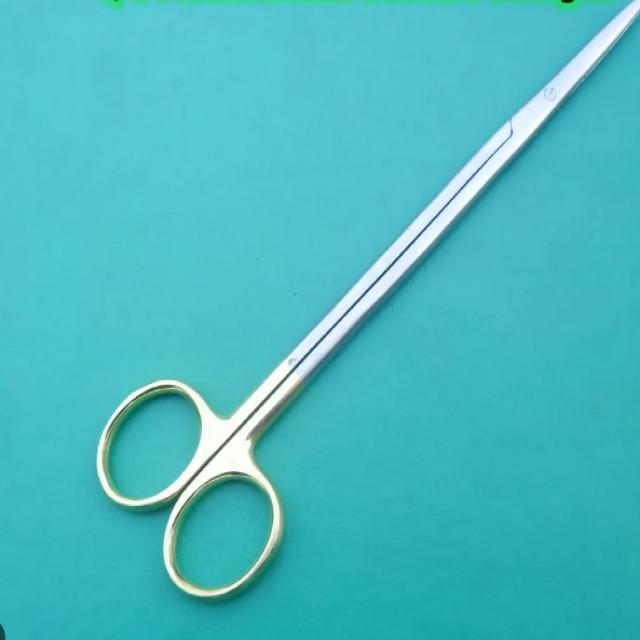Metzenbaum Sciccors: (91, 2, 640, 611)
